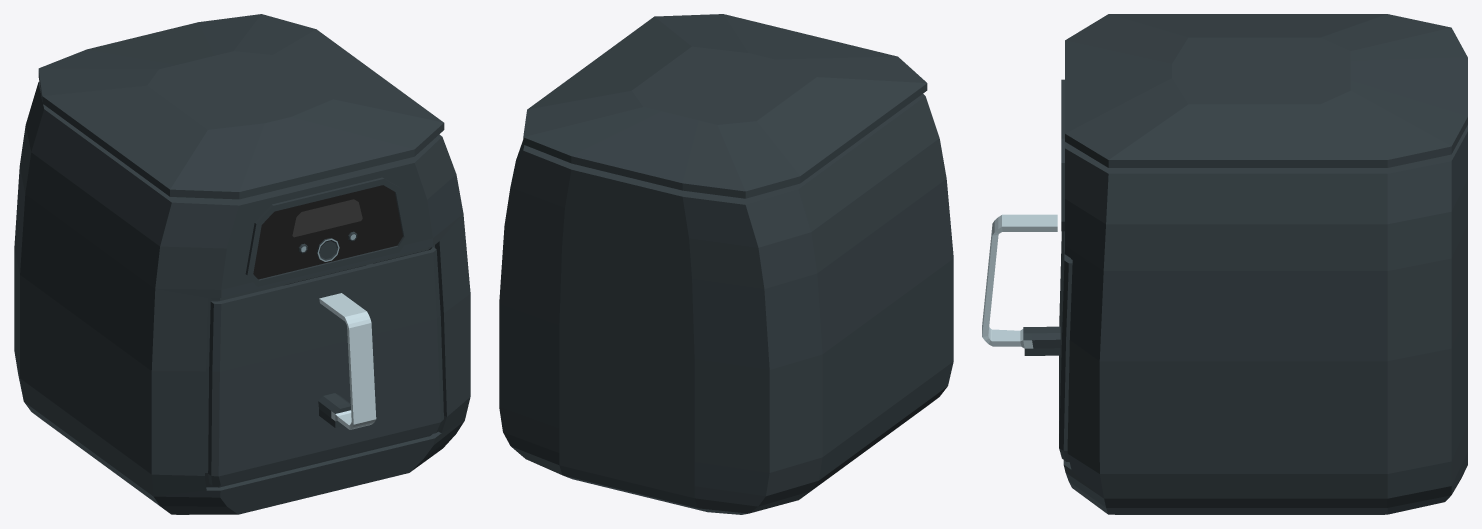
The model's file is KA_Airfryer_V1.glb.
3 views of the same model, side by side, from view 1: azimuth 30°, elevation 25°; view 2: azimuth 150°, elevation 25°; view 3: azimuth 270°, elevation 25° (orthographic). The views are drawn at different scales.
Visible parts, largest first — view 1: KA_Airfryer_V1, KA_Airfryer_V1_Tray; view 2: KA_Airfryer_V1; view 3: KA_Airfryer_V1, KA_Airfryer_V1_Tray.
Boxes of the visible parts, left/top/right/bottom form: KA_Airfryer_V1: left=14, top=14, right=470, bottom=514; KA_Airfryer_V1_Tray: left=208, top=247, right=443, bottom=485; KA_Airfryer_V1: left=499, top=14, right=953, bottom=514; KA_Airfryer_V1: left=1061, top=14, right=1467, bottom=514; KA_Airfryer_V1_Tray: left=982, top=214, right=1072, bottom=461.
Bounding box in the file's own units: 0.2851 × 0.2999 × 0.3444.
2 materials, 2 textured.
